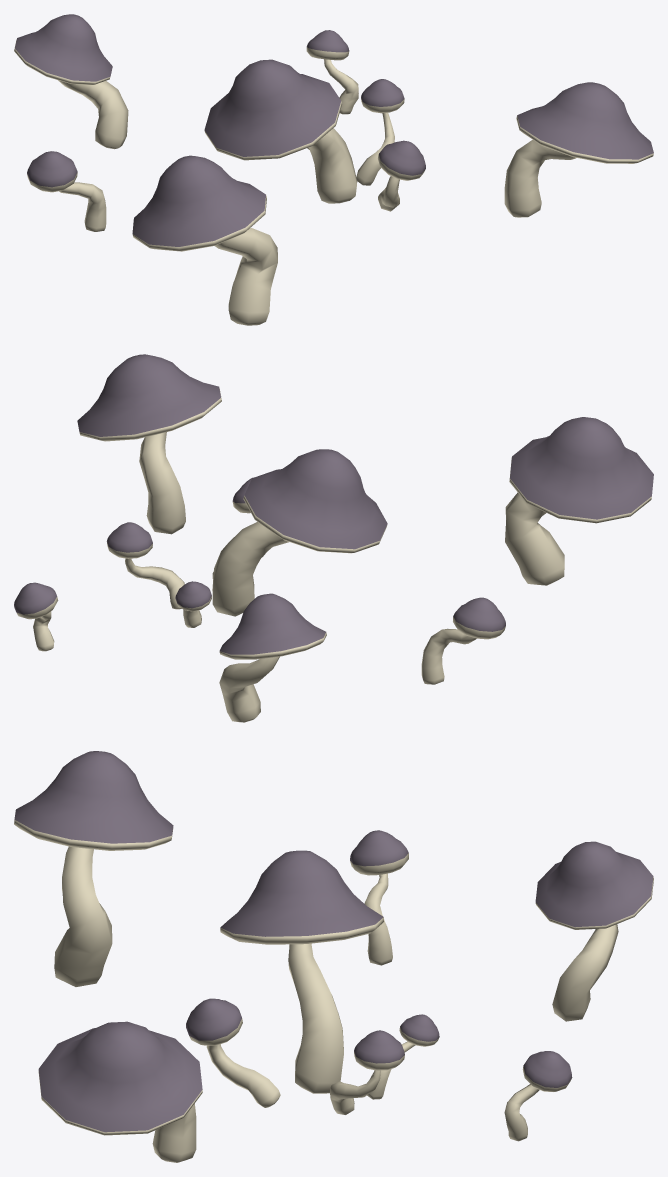
The model's file is P_mushroom_01_LD.fbx.
The picture shows the model from 3 angles, top to bottom: view 1: azimuth 30°, elevation 25°; view 2: azimuth 150°, elevation 25°; view 3: azimuth 270°, elevation 25°; orthographic projection. The views are drawn at different scales.
Parts seen in each view (by area): view 1: P_mushroom_01; view 2: P_mushroom_01; view 3: P_mushroom_01.
Boxes of the visible parts, x1,y1,x2,y2 form: P_mushroom_01: [14, 14, 653, 325]; P_mushroom_01: [14, 354, 653, 722]; P_mushroom_01: [14, 751, 653, 1162].
Bounding box in the file's own units: 142 × 45.09 × 131.
1 material, 1 textured.
